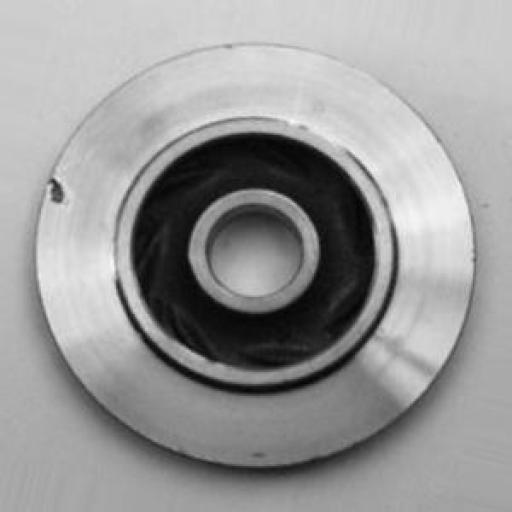defect: (40, 130, 77, 239)
